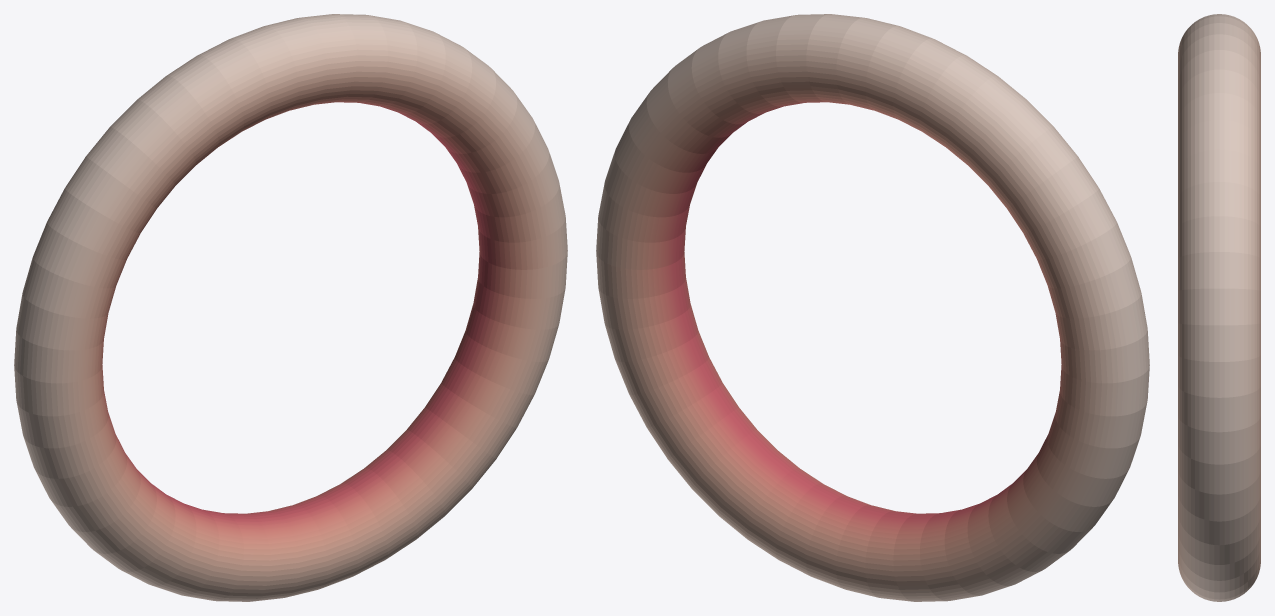
3 renders of one model, left to right at view 1: azimuth 30°, elevation 25°; view 2: azimuth 150°, elevation 25°; view 3: azimuth 270°, elevation 25°, orthographic. The views are drawn at different scales.
Visible parts, largest first — view 1: world; view 2: world; view 3: world.
Boxes of the visible parts, x1,y1,x2,y2 form: world: (14, 14, 567, 601); world: (596, 14, 1149, 601); world: (1178, 14, 1260, 601).
Size of the model in its own units: 34.93 by 34.86 by 4.92.
